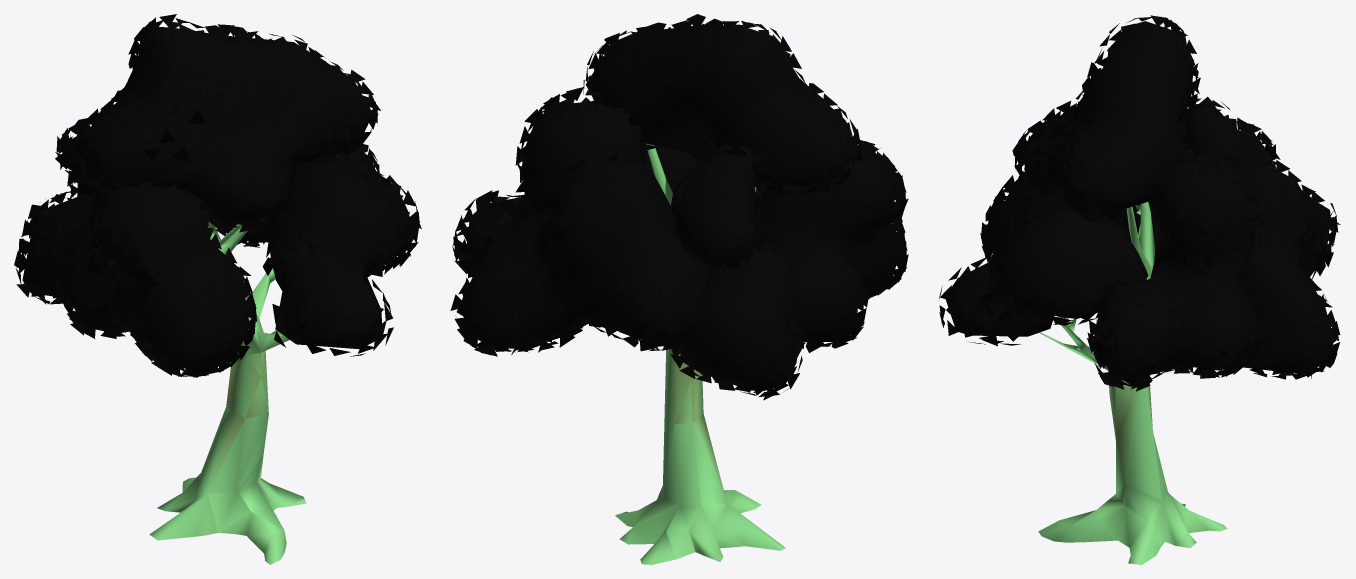
File: SM_ENV_LKNVLD_Tree_A_Lod2.gltf
The picture shows the model from 3 angles, left to right: view 1: azimuth 30°, elevation 25°; view 2: azimuth 150°, elevation 25°; view 3: azimuth 270°, elevation 25°; orthographic projection. The views are drawn at different scales.
Visible parts, largest first — view 1: SM_ENV_LKNVLD_Tree_A_Lod2; view 2: SM_ENV_LKNVLD_Tree_A_Lod2; view 3: SM_ENV_LKNVLD_Tree_A_Lod2.
Part boxes in pixels (bbox=[...]): SM_ENV_LKNVLD_Tree_A_Lod2: bbox=[14, 14, 421, 564]; SM_ENV_LKNVLD_Tree_A_Lod2: bbox=[450, 14, 908, 564]; SM_ENV_LKNVLD_Tree_A_Lod2: bbox=[939, 15, 1340, 564].
Size of the model in its own units: 10.05 by 13.93 by 10.27.
